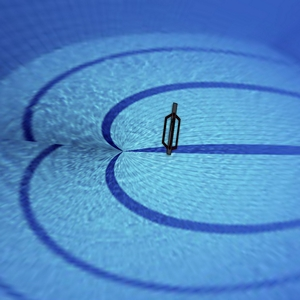submarine: (148, 88, 191, 165)
